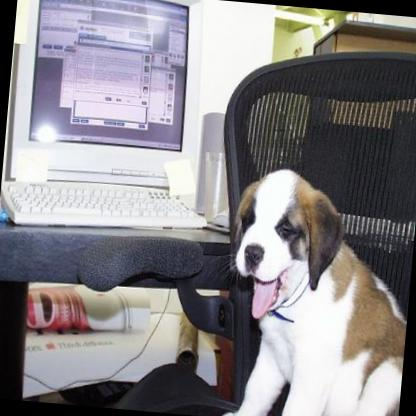Saint_Bernard: (215, 160, 416, 416)
